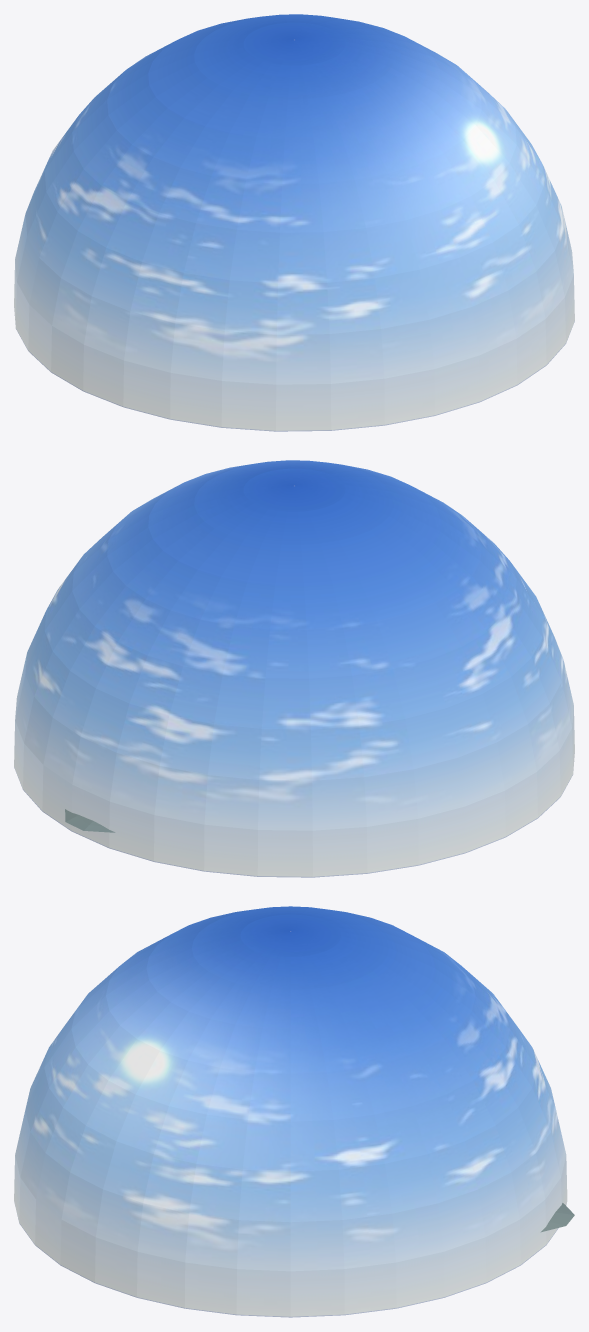
Rendered from lugar-bombay-ciudad.glb.
3 renders of one model, top to bottom at view 1: azimuth 30°, elevation 25°; view 2: azimuth 150°, elevation 25°; view 3: azimuth 270°, elevation 25°, orthographic.
Visible parts, largest first — view 1: planoC; view 2: planoC; view 3: planoC.
Part boxes in pixels (bbox=[...]): planoC: bbox=[14, 14, 574, 431]; planoC: bbox=[14, 460, 574, 877]; planoC: bbox=[14, 906, 567, 1317].
Size of the model in its own units: 6584 by 3530 by 6674.
Materials: 13 (12 with a texture image).
